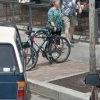Bicycle: (18, 22, 73, 70)
